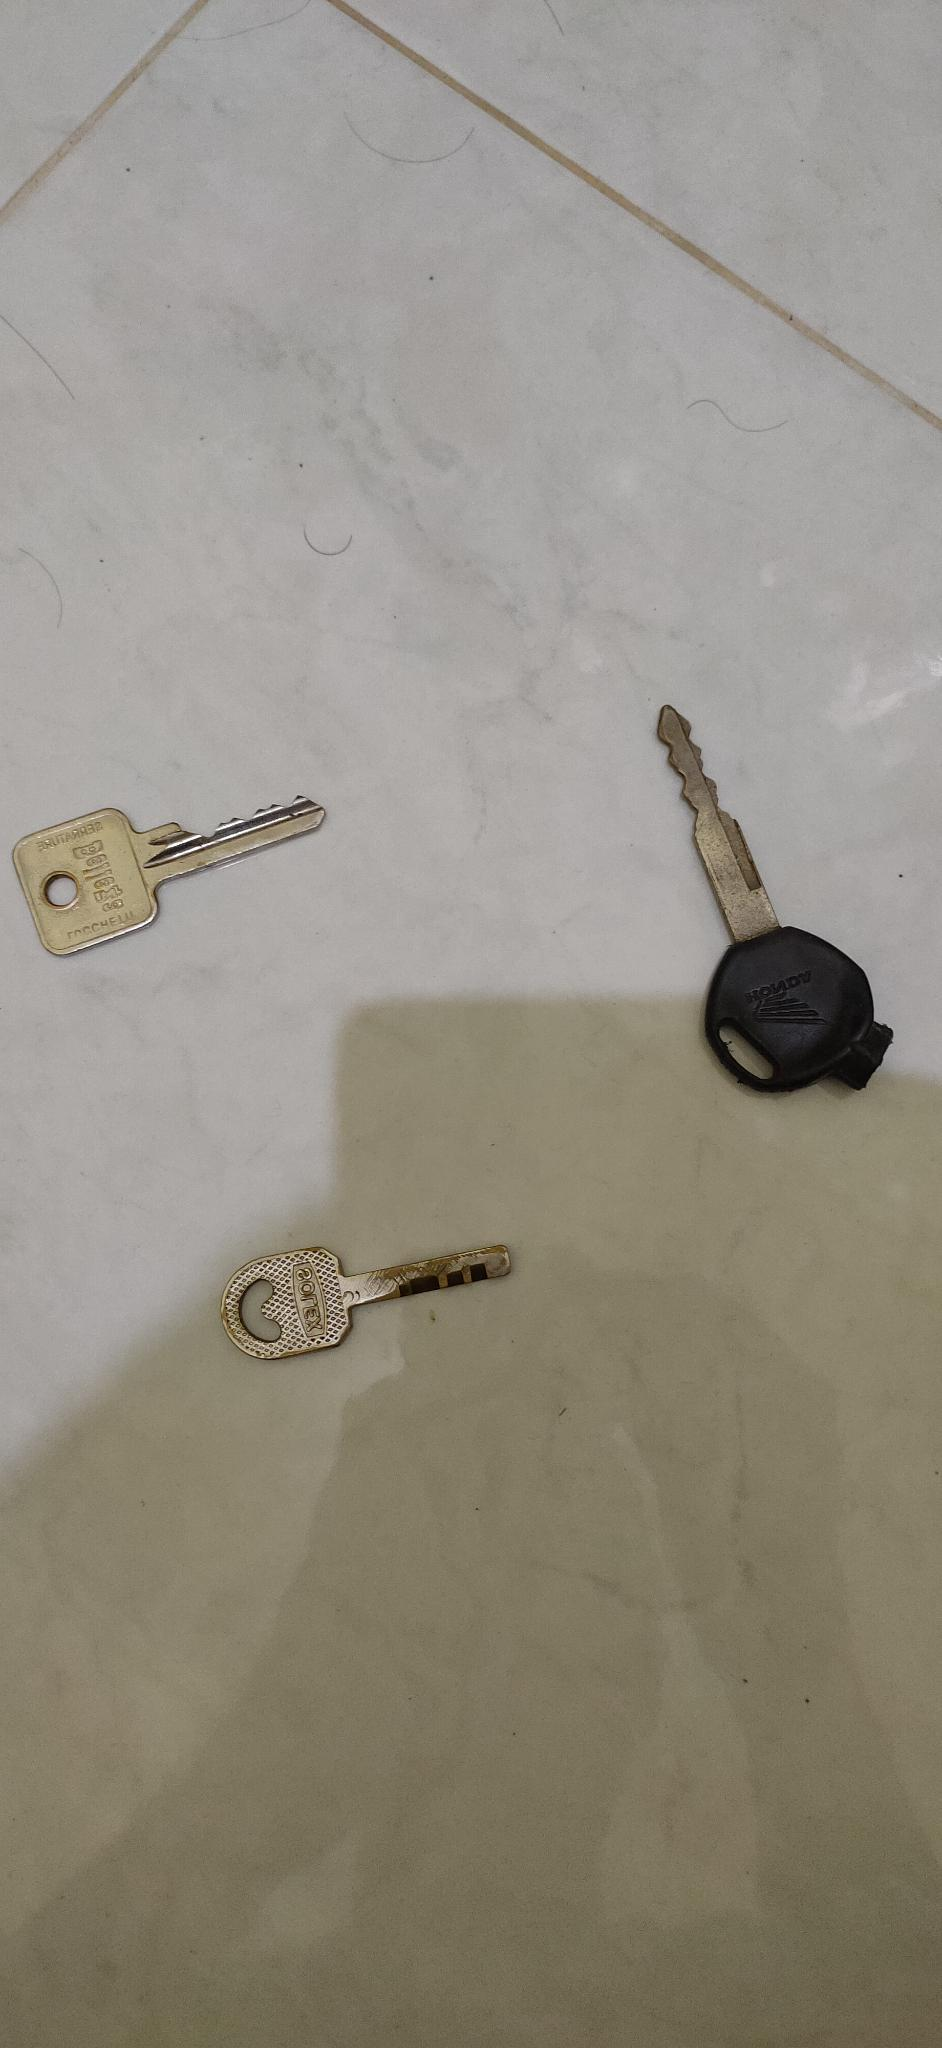keys: (639, 687, 905, 1106), (5, 775, 351, 987), (231, 1209, 527, 1371)
